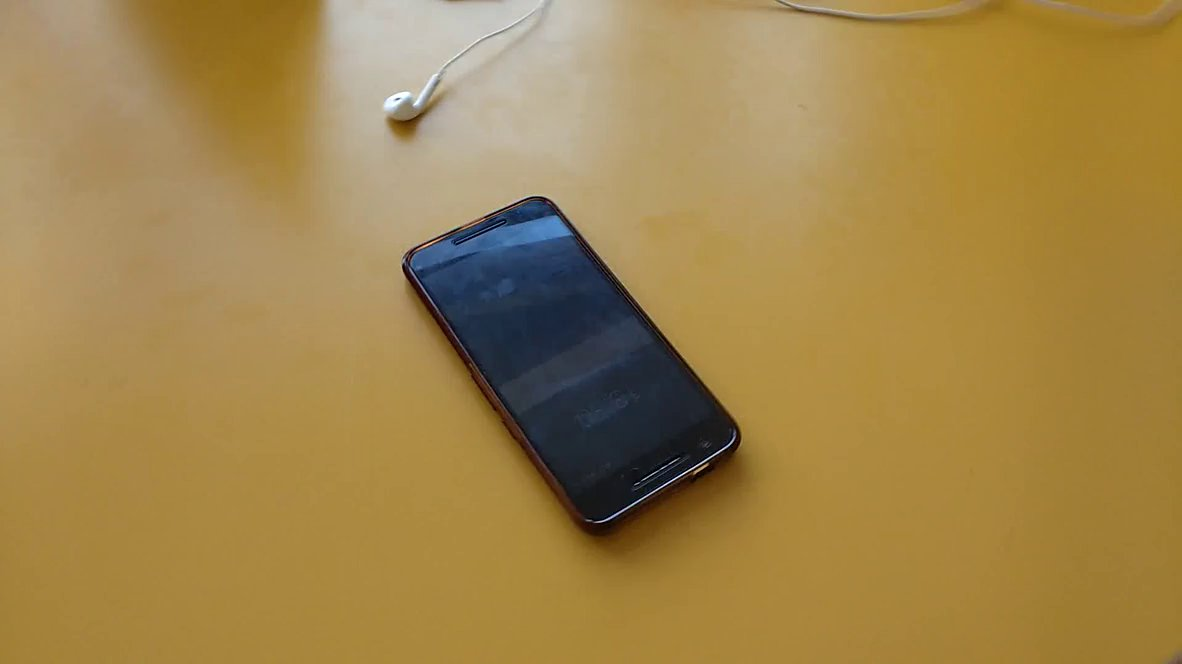phone: (398, 187, 754, 560)
